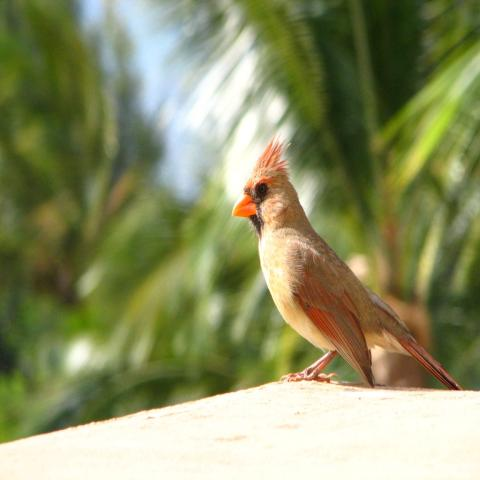bird: (229, 130, 463, 392)
